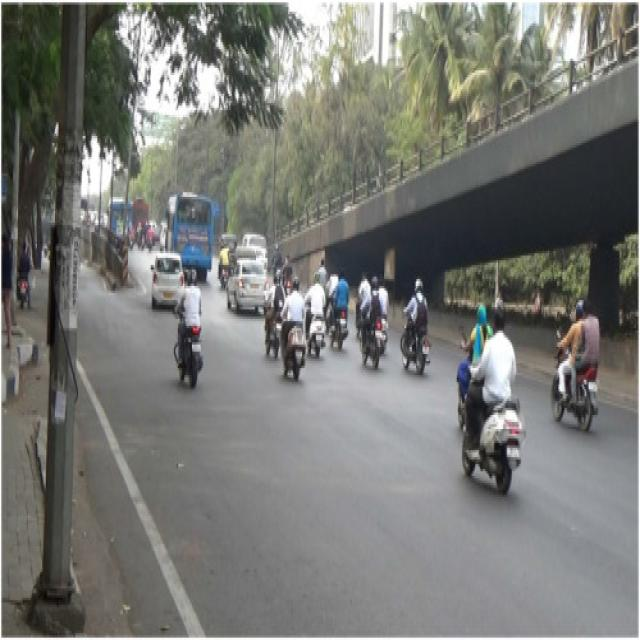bus: (168, 195, 215, 278)
motorcycle: (464, 309, 524, 491), (175, 270, 202, 386)
